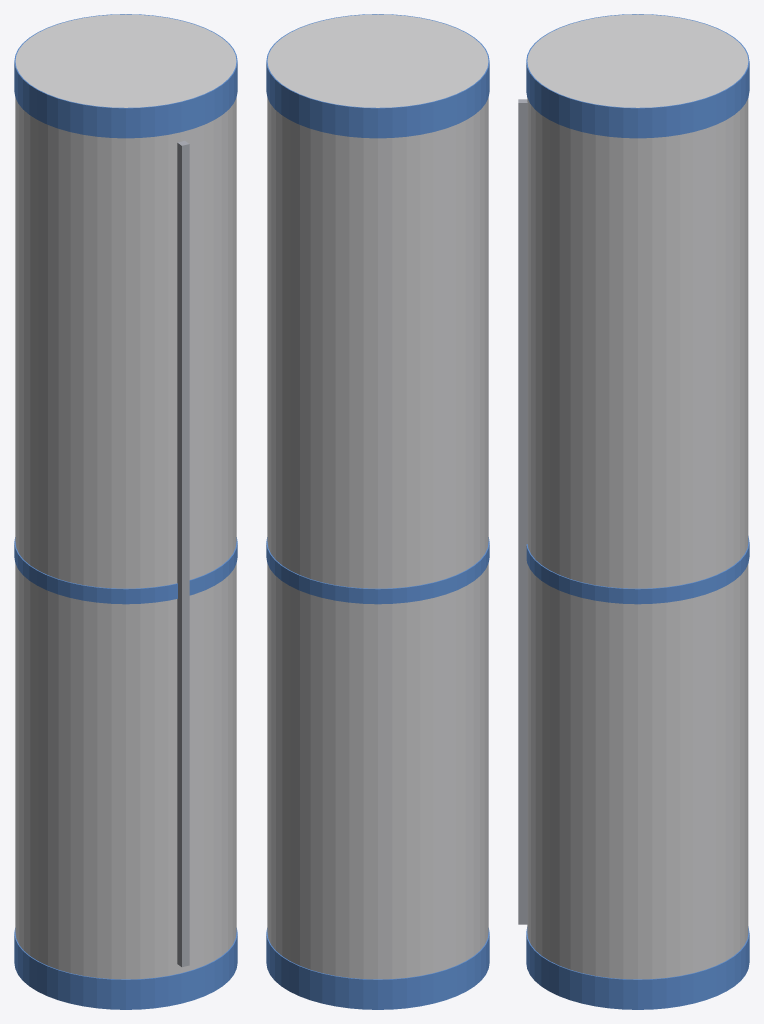
File: stage1_medium.glb
3 renders of one model, left to right at view 1: azimuth 30°, elevation 25°; view 2: azimuth 150°, elevation 25°; view 3: azimuth 270°, elevation 25°, orthographic.
Parts seen in each view (by area): view 1: stage1_medium_0, stage1_medium_4, stage1_medium_2, stage1_medium_1, stage1_medium_3; view 2: stage1_medium_0, stage1_medium_2, stage1_medium_1, stage1_medium_3; view 3: stage1_medium_0, stage1_medium_4, stage1_medium_2, stage1_medium_1, stage1_medium_3.
Boxes of the visible parts, <box> form: stage1_medium_0: <box>15,14,236,979</box>; stage1_medium_4: <box>177,140,189,967</box>; stage1_medium_2: <box>14,14,237,138</box>; stage1_medium_1: <box>14,928,237,1009</box>; stage1_medium_3: <box>14,537,237,604</box>; stage1_medium_0: <box>267,14,488,979</box>; stage1_medium_2: <box>266,14,489,138</box>; stage1_medium_1: <box>266,928,489,1009</box>; stage1_medium_3: <box>266,537,489,604</box>; stage1_medium_0: <box>527,14,748,979</box>; stage1_medium_4: <box>518,99,527,924</box>; stage1_medium_2: <box>526,14,749,138</box>; stage1_medium_1: <box>526,926,749,1009</box>; stage1_medium_3: <box>526,536,749,604</box>.
Bounding box in the file's own units: 2.02 × 9 × 2.09.
